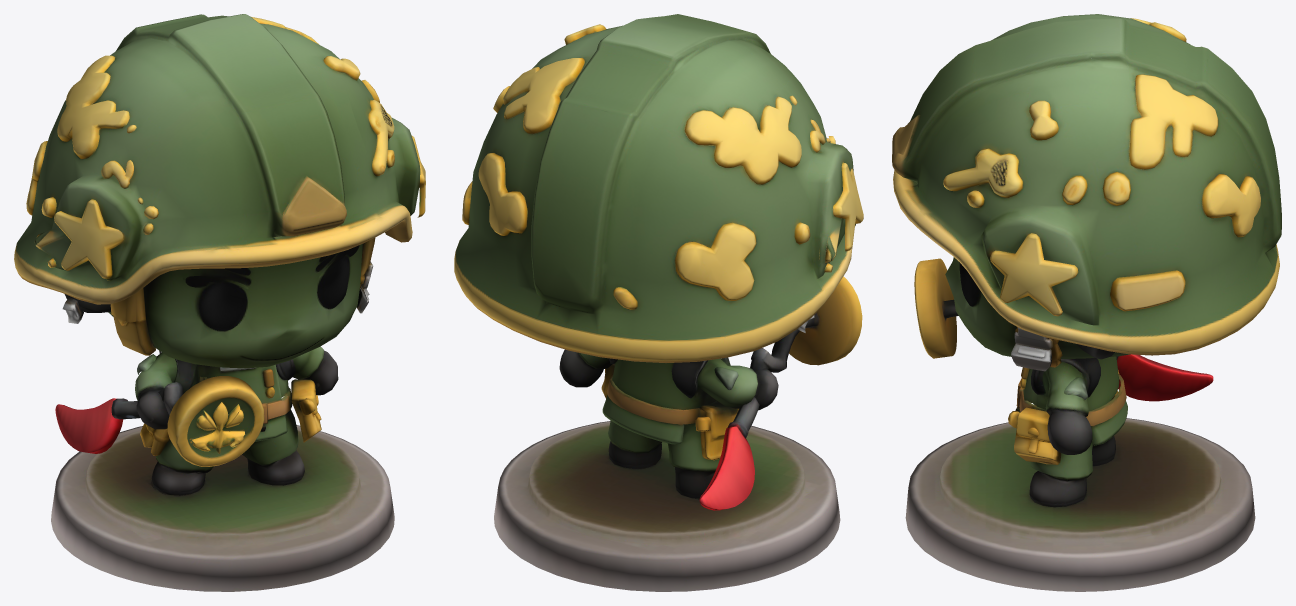
The model's file is viet-bishop.glb.
3 renders of one model, left to right at view 1: azimuth 30°, elevation 25°; view 2: azimuth 150°, elevation 25°; view 3: azimuth 270°, elevation 25°, orthographic.
Parts seen in each view (by area): view 1: tripo_1d00a323_2cbd_479f_ad68_15be4e7e1682; view 2: tripo_1d00a323_2cbd_479f_ad68_15be4e7e1682; view 3: tripo_1d00a323_2cbd_479f_ad68_15be4e7e1682.
Boxes of the visible parts, bbox=[...] form: tripo_1d00a323_2cbd_479f_ad68_15be4e7e1682: bbox=[14, 14, 425, 591]; tripo_1d00a323_2cbd_479f_ad68_15be4e7e1682: bbox=[454, 14, 863, 591]; tripo_1d00a323_2cbd_479f_ad68_15be4e7e1682: bbox=[892, 14, 1281, 591].
Bounding box in the file's own units: 0.772 × 0.9995 × 0.7222.
1 material, 1 textured.
